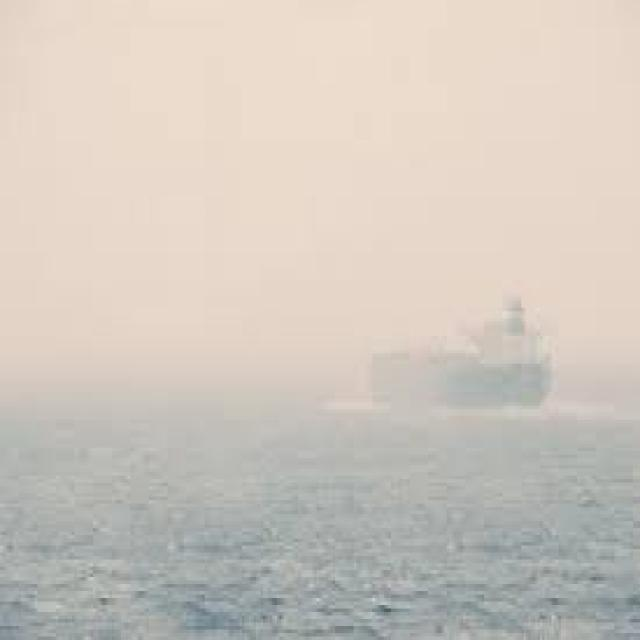cargoship: (353, 259, 546, 412)
